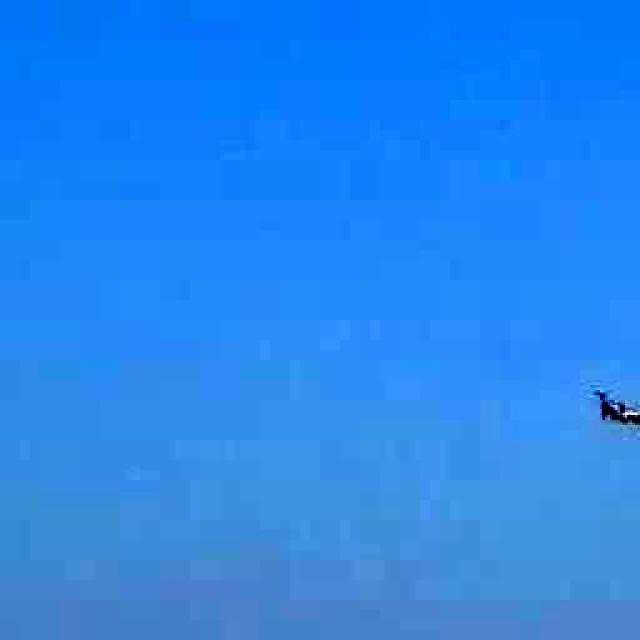bird: (570, 356, 640, 454)
